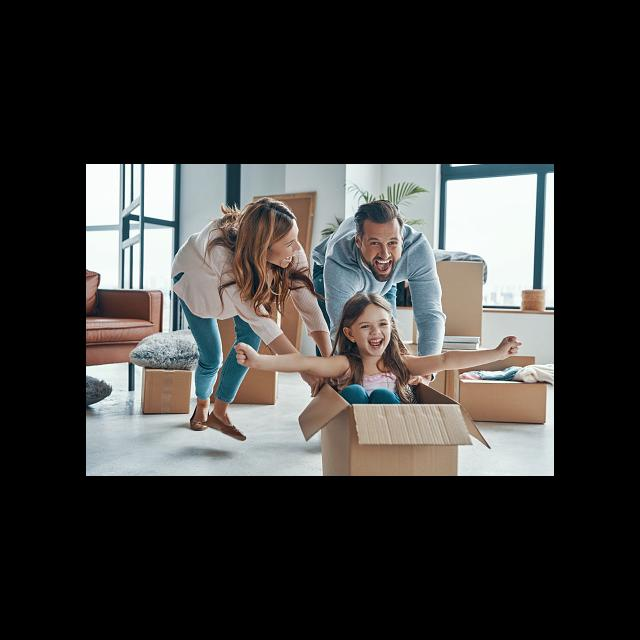female: (218, 178, 320, 268), (328, 287, 401, 358)
male: (332, 192, 434, 262)
